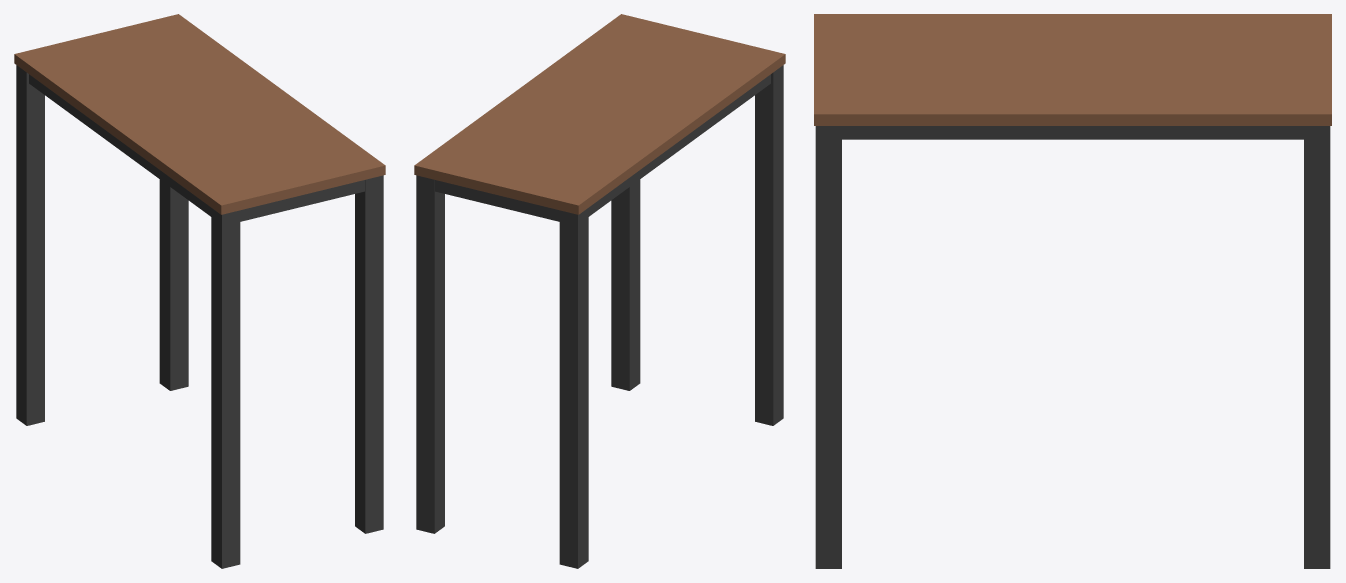
The model's file is Table_05_C3.fbx.
3 views of the same model, side by side, from view 1: azimuth 30°, elevation 25°; view 2: azimuth 150°, elevation 25°; view 3: azimuth 270°, elevation 25° (orthographic). The views are drawn at different scales.
Parts seen in each view (by area): view 1: Table_05_C3; view 2: Table_05_C3; view 3: Table_05_C3.
Boxes of the visible parts, x1=… form: Table_05_C3: x1=14, y1=14, x2=385, y2=568; Table_05_C3: x1=414, y1=14, x2=785, y2=568; Table_05_C3: x1=814, y1=14, x2=1331, y2=568.
Bounding box in the file's own units: 55 × 117 × 120.
